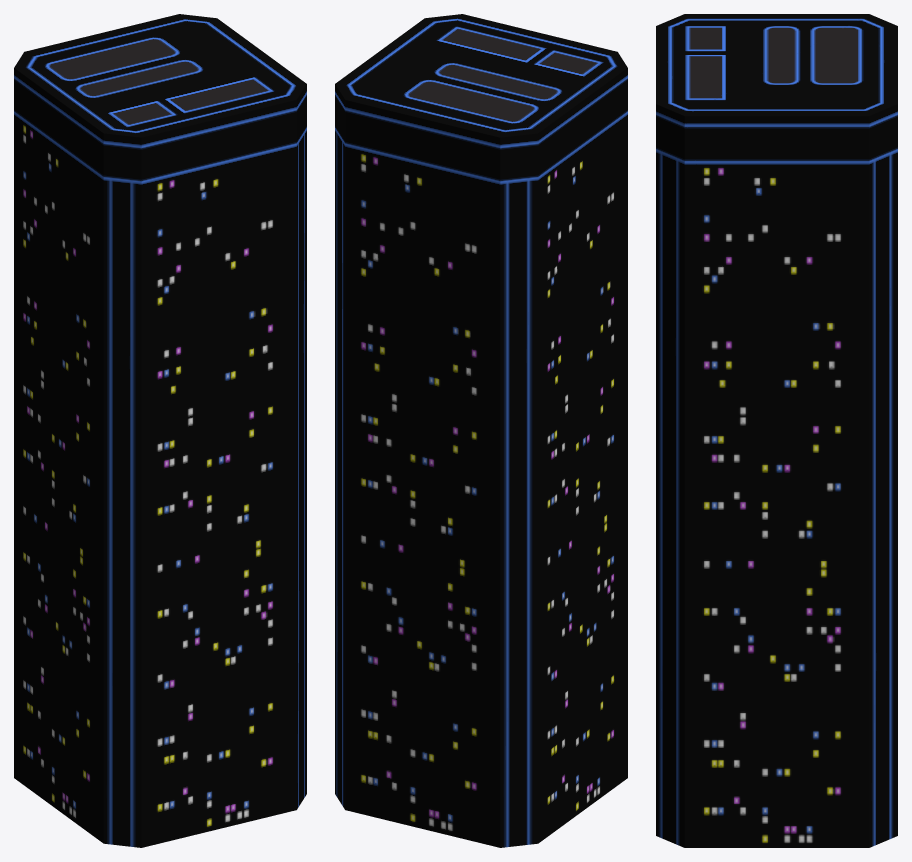
Rendered from bldg_007.fbx.
The picture shows the model from 3 angles, left to right: view 1: azimuth 30°, elevation 25°; view 2: azimuth 150°, elevation 25°; view 3: azimuth 270°, elevation 25°; orthographic projection. The views are drawn at different scales.
Visible parts, largest first — view 1: bldg_007; view 2: bldg_007; view 3: bldg_007.
Boxes of the visible parts, <box> form: bldg_007: <box>14,14,306,847</box>; bldg_007: <box>335,14,627,847</box>; bldg_007: <box>656,14,897,847</box>.
Size of the model in its own units: 200 by 668 by 200.
1 material, 1 textured.
